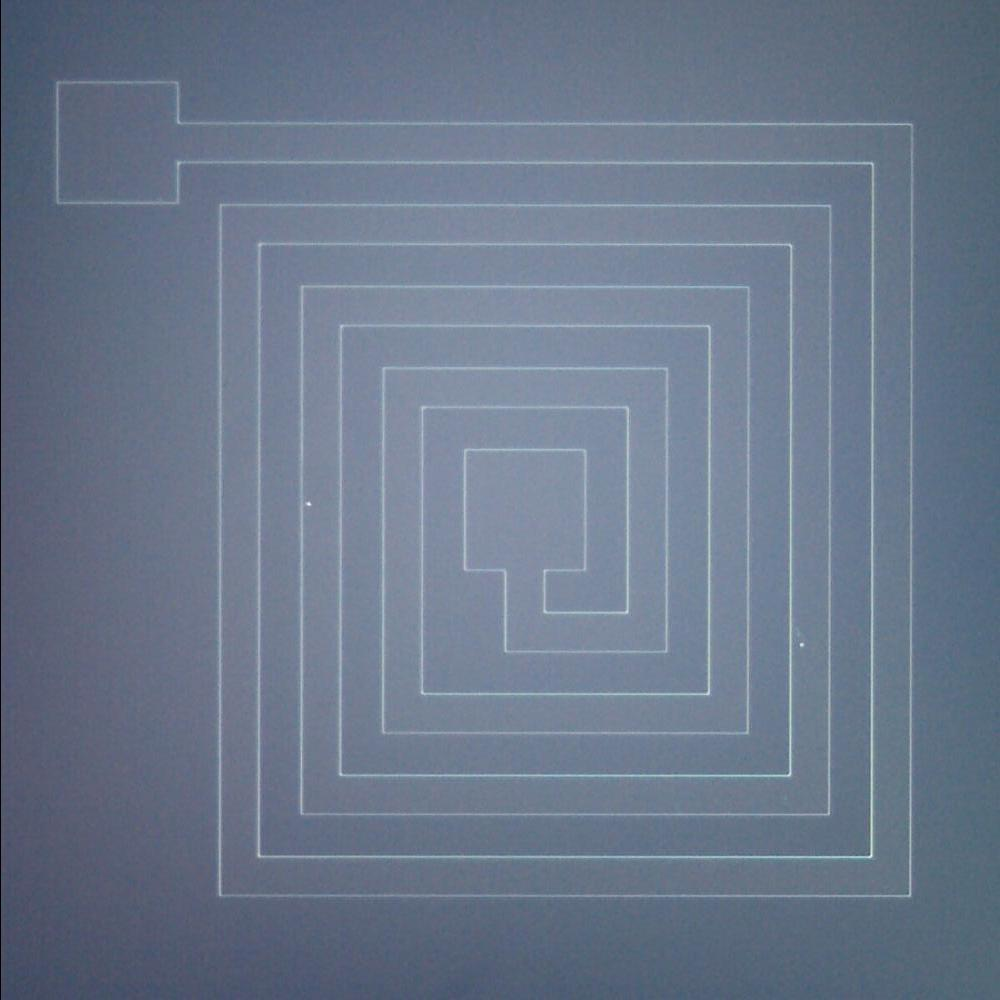dot: (792, 628, 818, 660), (297, 489, 320, 519)
